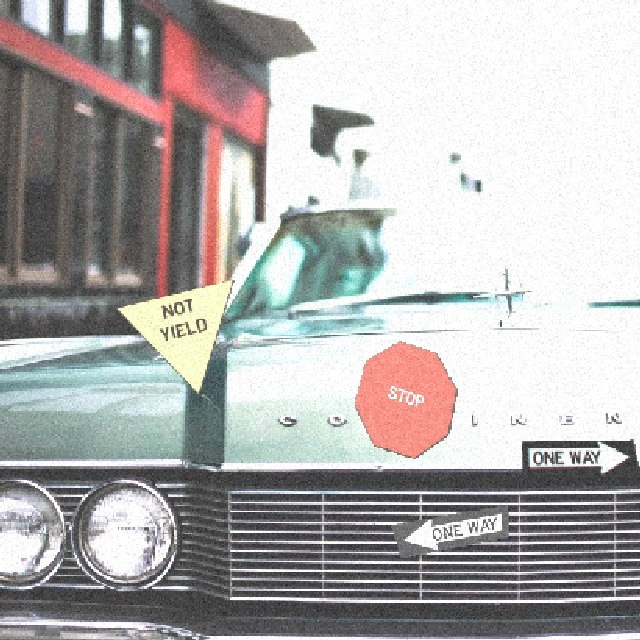NOT_YIELD: (114, 277, 233, 394)
ONE_WAY_ left: (389, 503, 508, 557)
ONE_WAY_ right: (520, 438, 639, 476)
STOP: (352, 339, 456, 458)
